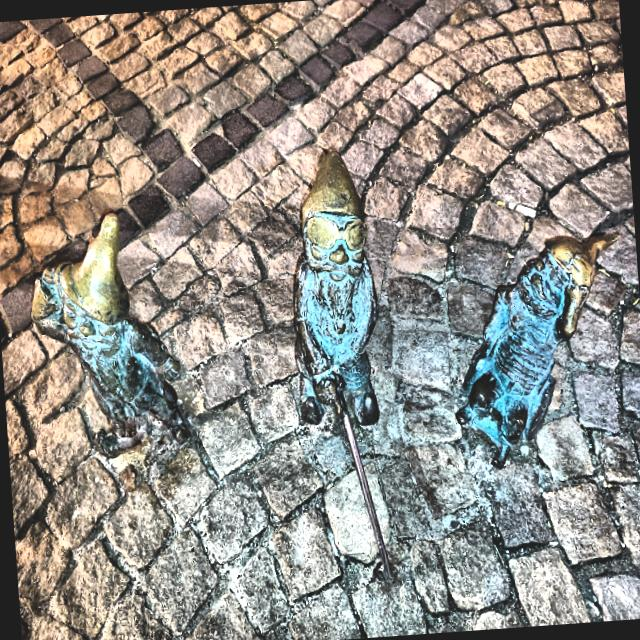Gluchak: (31, 213, 189, 455)
Slepak: (293, 149, 391, 577)
W-Skers: (457, 234, 618, 465)
